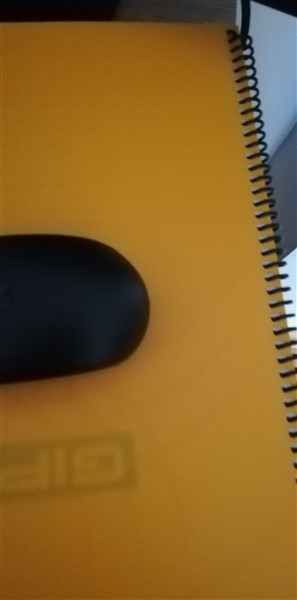mouse: (1, 228, 157, 393)
